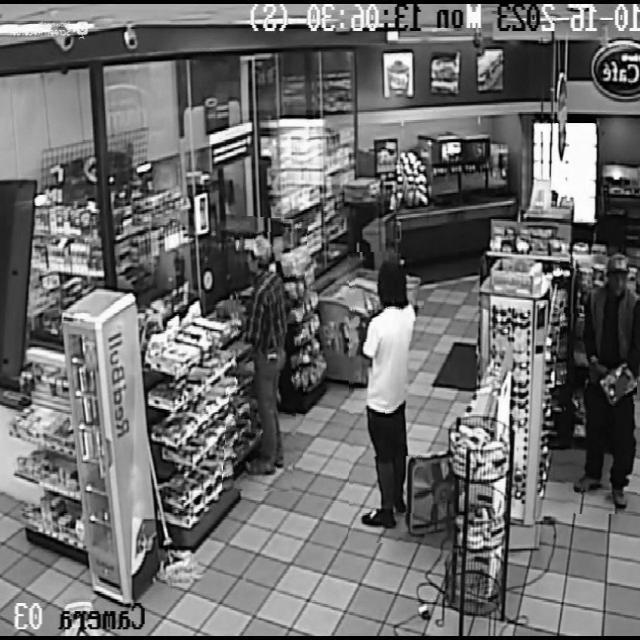Normal: (349, 253, 423, 543), (226, 216, 303, 491), (560, 247, 637, 515)
